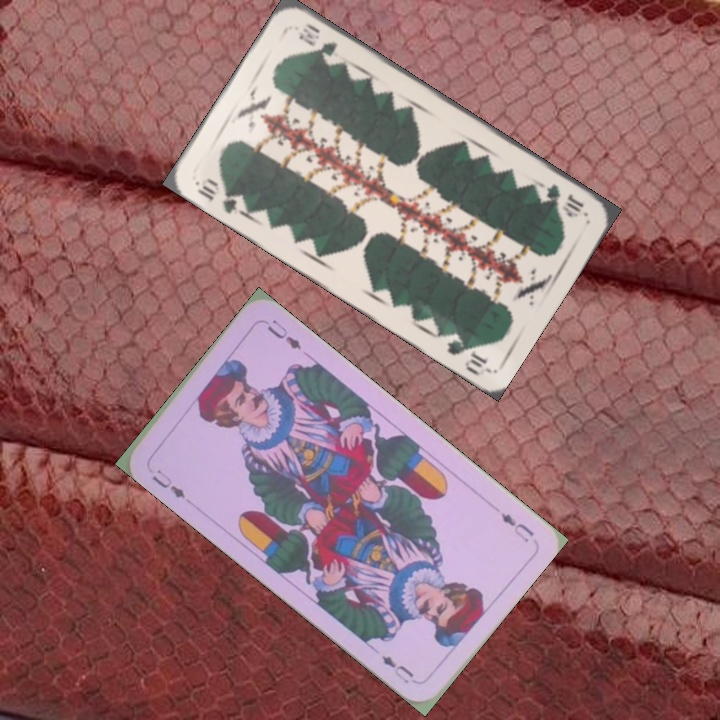EU: (147, 465, 192, 504), (496, 508, 537, 545)
G10: (192, 173, 249, 217), (542, 180, 587, 220)
